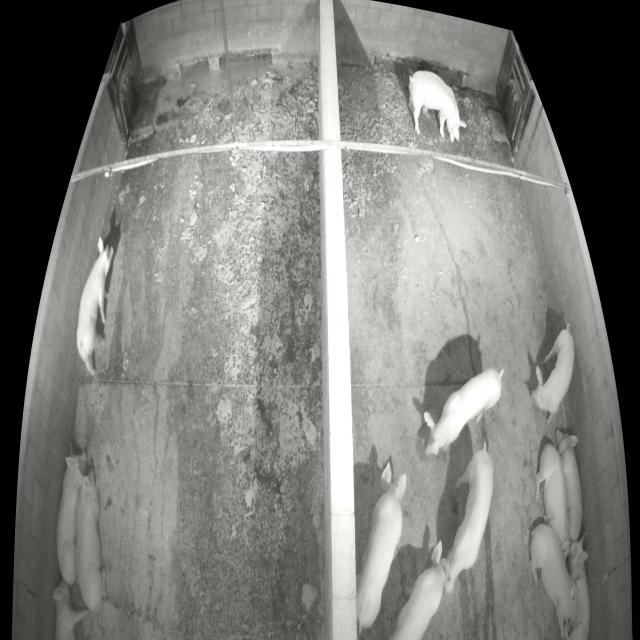pig: (356, 461, 406, 629), (445, 449, 493, 593), (424, 369, 501, 456), (530, 523, 582, 639), (389, 539, 449, 637), (77, 236, 113, 376), (74, 464, 106, 612), (535, 441, 574, 558), (56, 449, 88, 588), (529, 330, 574, 425), (409, 71, 467, 143), (556, 426, 584, 543), (567, 532, 591, 639), (53, 579, 88, 639)
